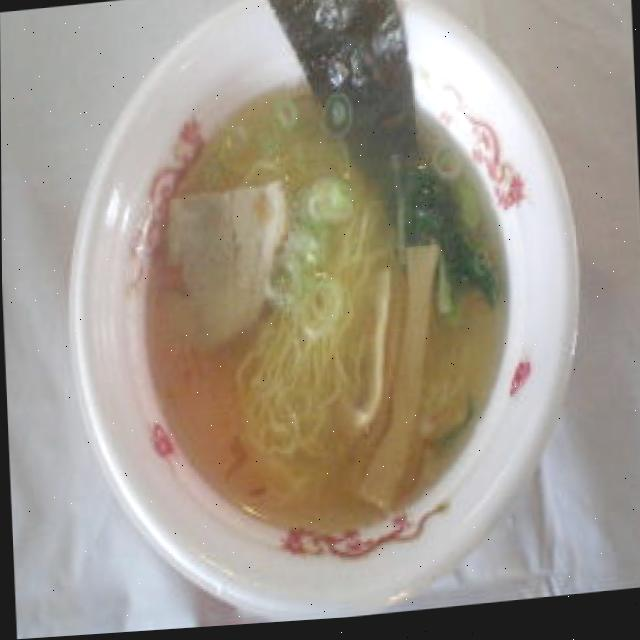面条主食: (53, 0, 599, 637)
